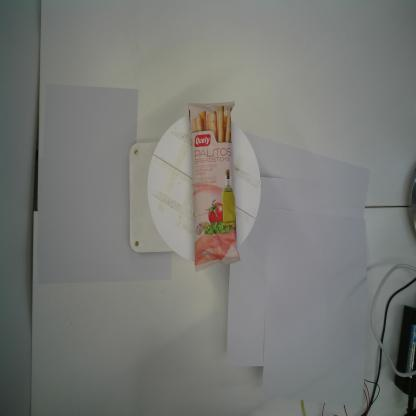Dessert: (187, 102, 241, 274)
